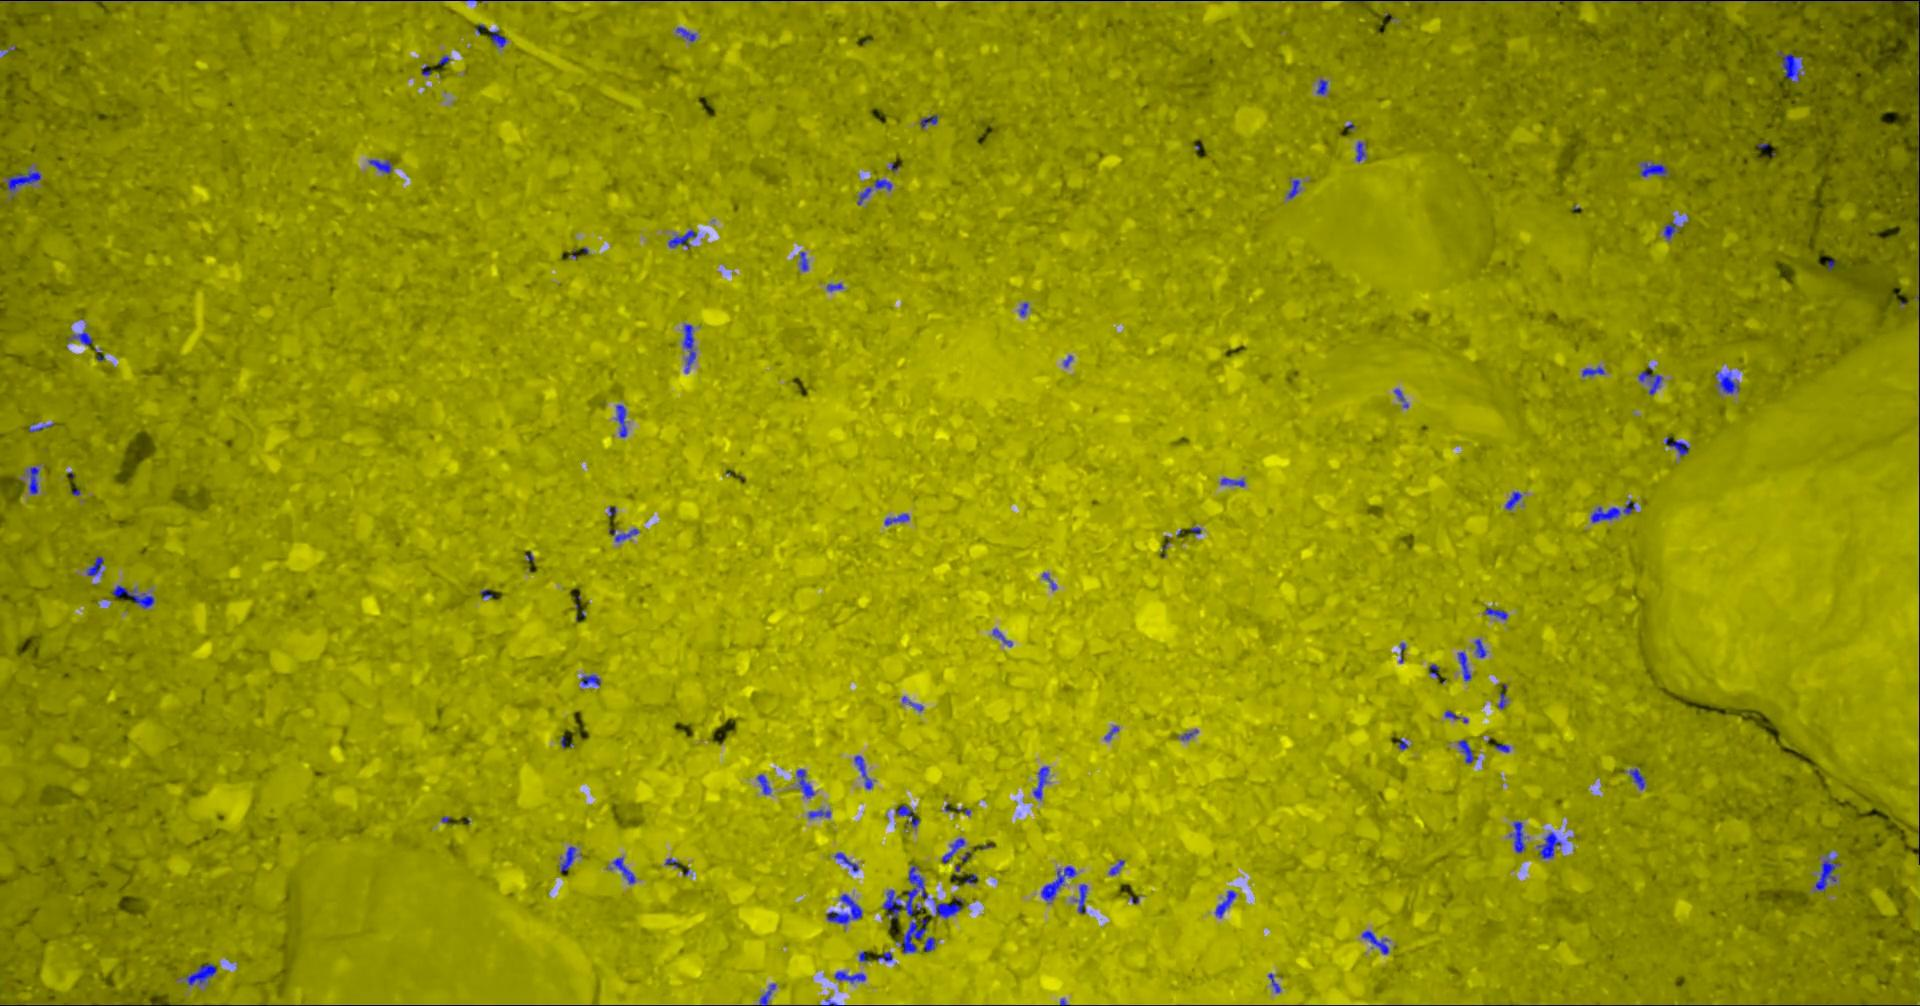ant: (1040, 865, 1076, 901), (825, 893, 861, 923), (1590, 500, 1636, 522), (110, 586, 154, 608), (1865, 0, 1919, 18), (857, 178, 891, 205), (1815, 855, 1840, 890), (1777, 51, 1802, 81), (6, 169, 41, 191), (1638, 366, 1662, 394), (185, 963, 216, 984), (1537, 831, 1561, 857), (1361, 930, 1388, 954), (682, 323, 695, 372), (935, 897, 963, 918), (855, 754, 872, 788), (1214, 890, 1236, 917), (941, 838, 964, 862), (612, 857, 634, 883), (1663, 436, 1689, 456), (1032, 766, 1048, 799), (668, 229, 696, 246), (796, 768, 814, 796), (1716, 371, 1738, 392), (897, 804, 919, 826), (1457, 739, 1477, 763), (834, 852, 858, 873), (1509, 821, 1524, 852), (1639, 161, 1666, 177), (1457, 652, 1470, 680), (992, 627, 1012, 647), (560, 846, 575, 871), (608, 528, 637, 541), (1073, 884, 1086, 913), (758, 983, 775, 1005), (834, 970, 865, 982), (25, 466, 38, 493), (67, 332, 91, 345), (616, 404, 626, 437), (368, 159, 391, 173), (86, 556, 103, 575), (1629, 768, 1644, 789), (488, 30, 505, 47), (1505, 492, 1521, 509), (756, 774, 770, 794), (884, 513, 908, 525), (676, 27, 695, 41), (1484, 607, 1507, 619), (1109, 859, 1124, 875), (1286, 179, 1299, 198), (1581, 366, 1604, 376), (919, 116, 937, 128), (1220, 478, 1244, 486), (1497, 683, 1506, 708), (1663, 222, 1676, 239), (1355, 141, 1365, 161), (808, 809, 830, 818), (1474, 638, 1484, 657), (580, 674, 599, 685), (1316, 79, 1327, 94), (799, 251, 808, 271), (1917, 27, 1919, 122), (1777, 0, 1862, 1), (1917, 169, 1919, 227)
